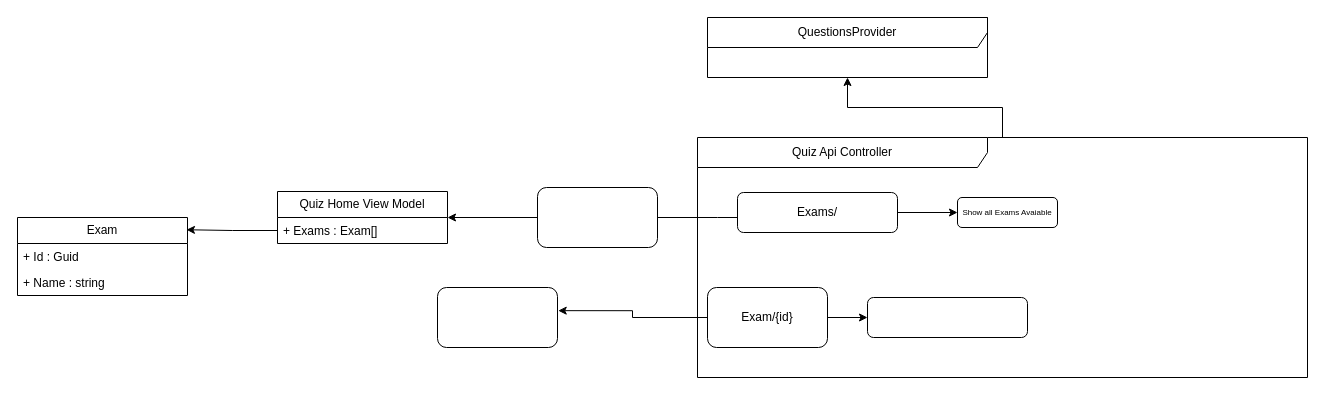
Some shapes in this 1325 by 395 pixel diagram are drawn without their labels. The shapes that lost their labels are listed below. From the top down, each one's centre as x and y in pixels, then its label:
(597,217): Quiz Home View
(497,317): ViewModel : List<Question>
(947,317): Getting the Questions of exams
